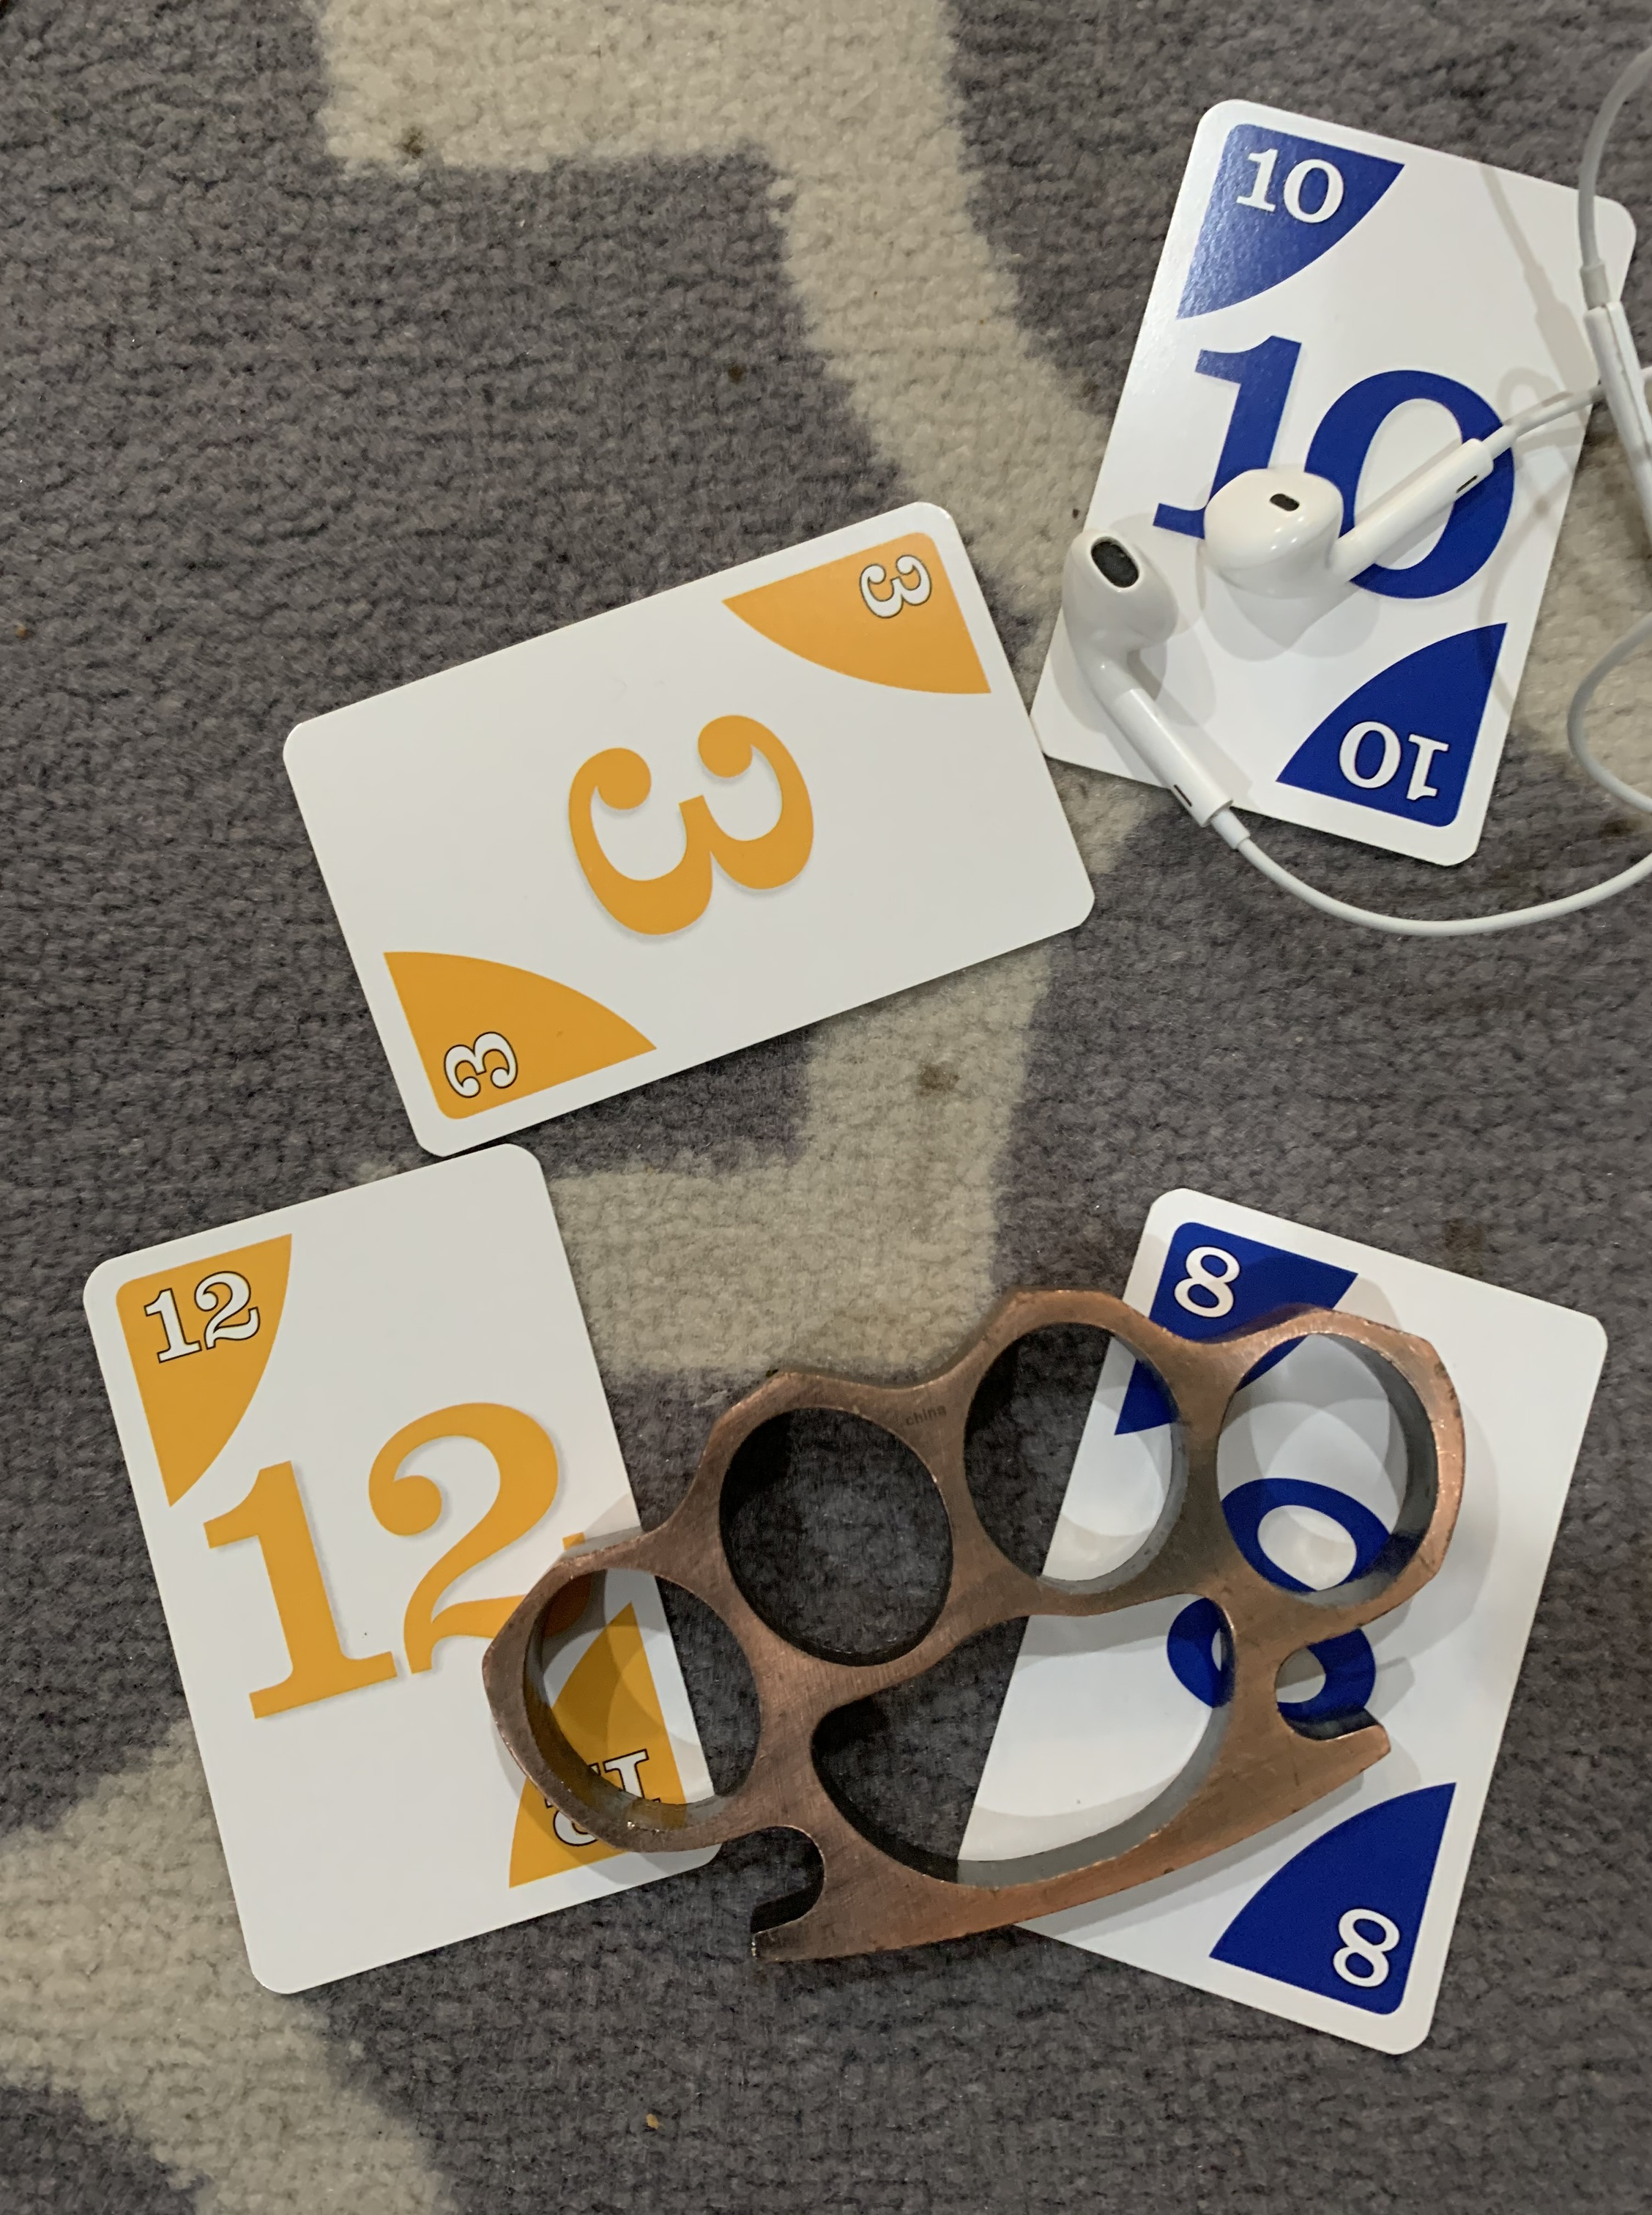eight: (934, 1168, 1628, 2074)
ten: (975, 85, 1650, 932)
three: (265, 488, 1098, 1160)
twelve]: (75, 1121, 762, 2043)
